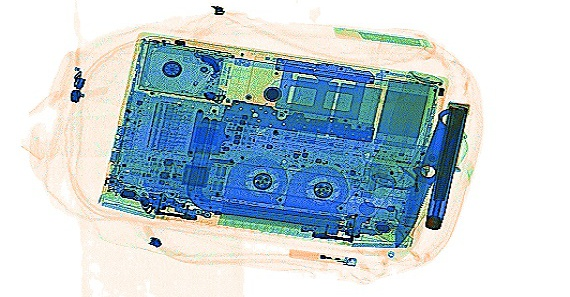knife: (391, 106, 460, 249)
lighter: (286, 246, 356, 267)
pressure: (366, 123, 467, 248), (366, 67, 443, 185)
